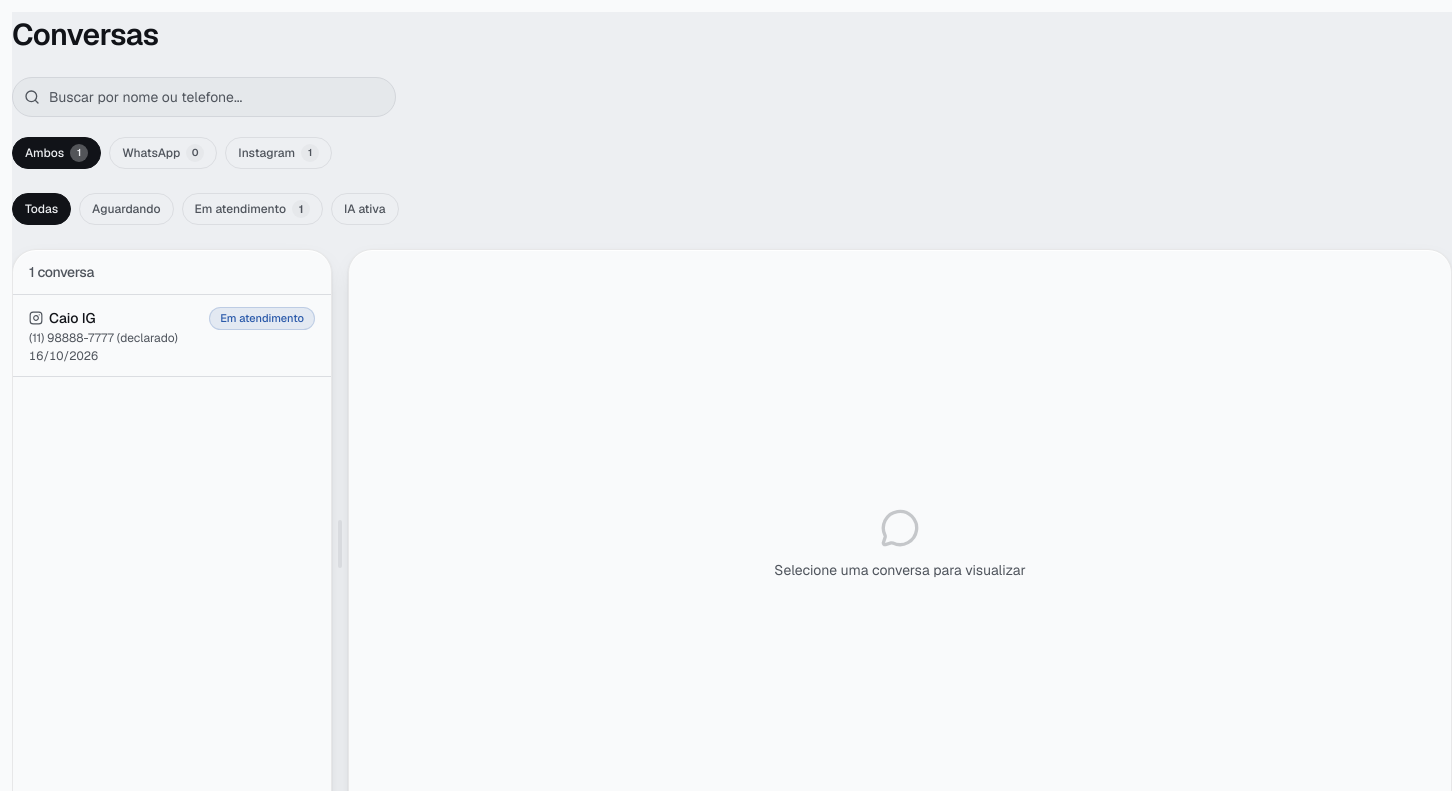
Scenario: Conversa do Instagram: envio, copy e identidade › telefone do cliente ligado aparece como declarado e não há link para a ficha
The image size is (1452, 791).
Click the text "Caio IG": (72, 318) top-left (49, 308), bottom-right (96, 328)
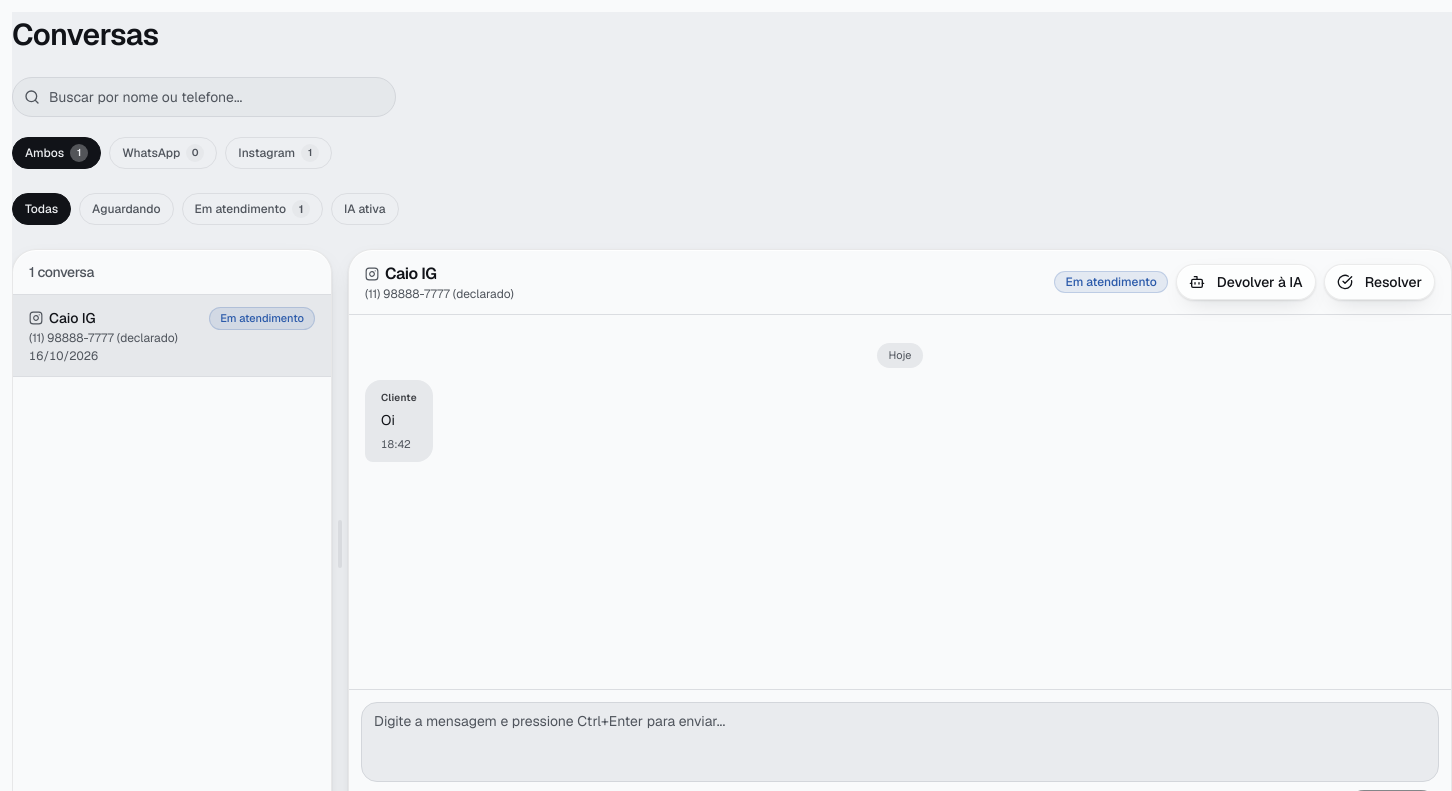
Expected: the text "(11) 98888-7777 (declarado)" below "1 conversa" is shown, top-left (29, 330), bottom-right (178, 346)
Expected: the text "Oi" is shown, top-left (381, 410), bottom-right (395, 428)
Expected: the 1st text "(11) 98888-7777 (declarado)" is shown, top-left (365, 286), bottom-right (514, 302)
